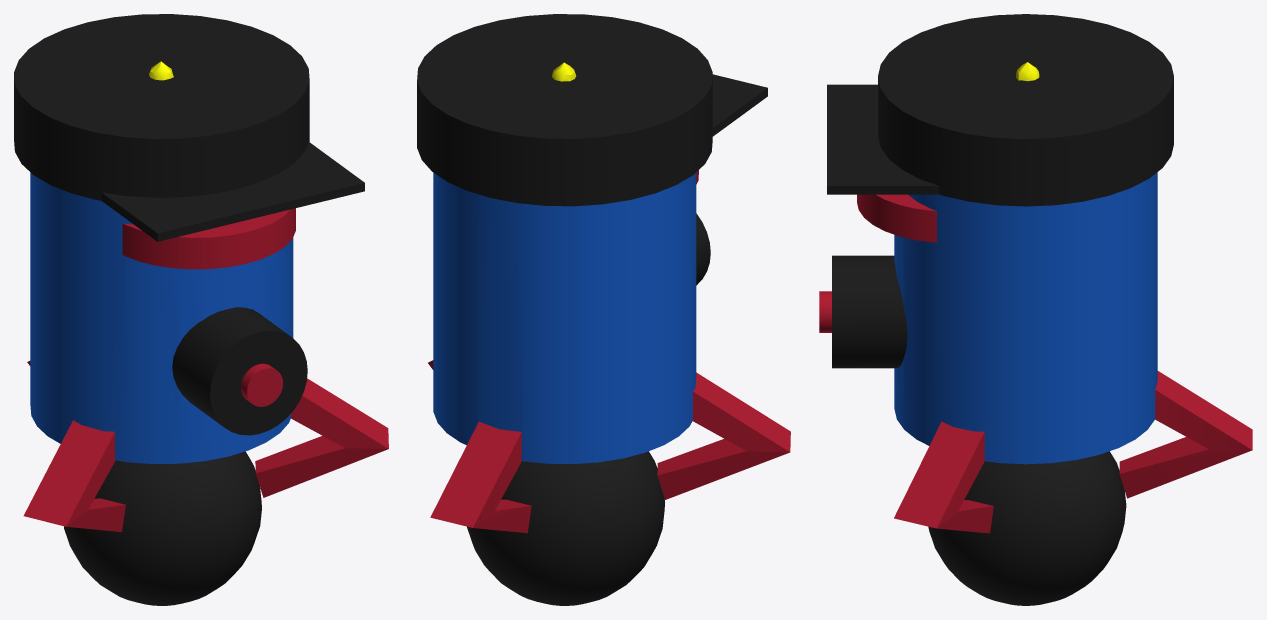
The model's file is PatrolAndShootEnemy.fbx.
The picture shows the model from 3 angles, left to right: view 1: azimuth 30°, elevation 25°; view 2: azimuth 150°, elevation 25°; view 3: azimuth 270°, elevation 25°; orthographic projection.
Visible parts, largest first — view 1: Cylinder, Cylinder.004; view 2: Cylinder, Cylinder.004; view 3: Cylinder, Cylinder.004.
Boxes of the visible parts, x1,y1,x2,y2 form: Cylinder: (23, 172, 388, 605); Cylinder.004: (14, 14, 364, 241); Cylinder: (428, 170, 790, 605); Cylinder.004: (417, 14, 767, 206); Cylinder: (819, 172, 1252, 605); Cylinder.004: (827, 14, 1173, 206).
Bounding box in the file's own units: 255 × 358 × 263.
